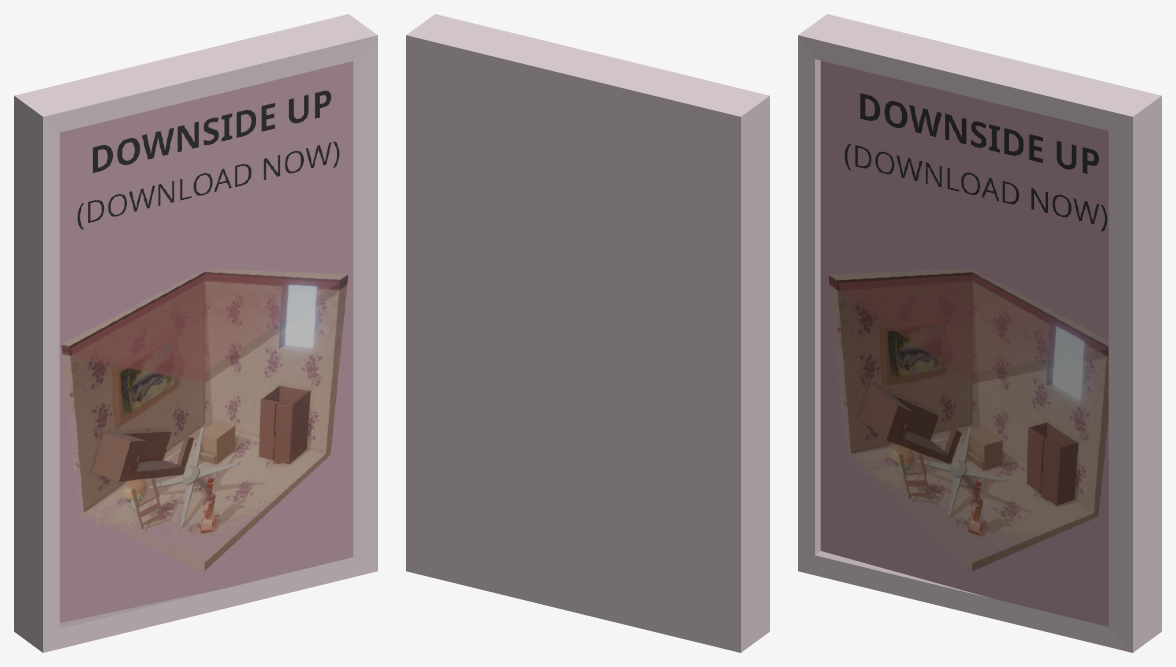
File: billboard.fbx
3 views of the same model, side by side, from view 1: azimuth 30°, elevation 25°; view 2: azimuth 150°, elevation 25°; view 3: azimuth 330°, elevation 25° (orthographic).
Visible parts, largest first — view 1: Cube; view 2: Cube; view 3: Cube.
Part boxes in pixels (x1=…): Cube: x1=14, y1=14, x2=377, y2=652; Cube: x1=406, y1=14, x2=769, y2=652; Cube: x1=798, y1=14, x2=1161, y2=652.
Size of the model in its own units: 200 by 306 by 30.04.
